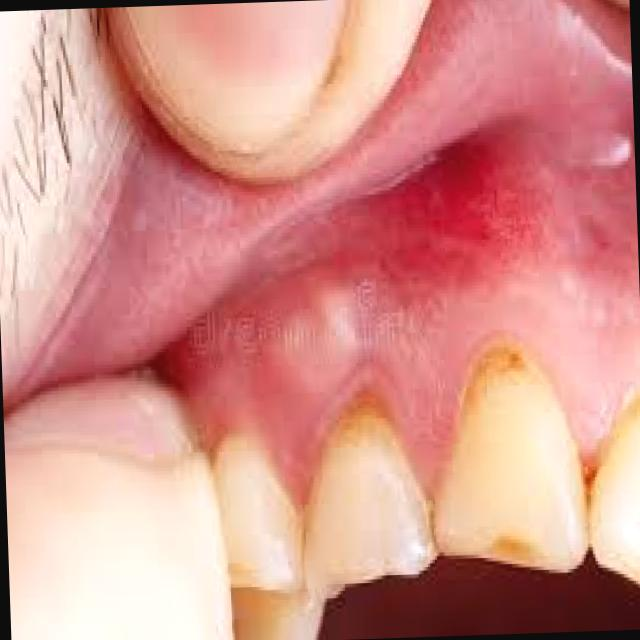abscess: (239, 272, 399, 416)
